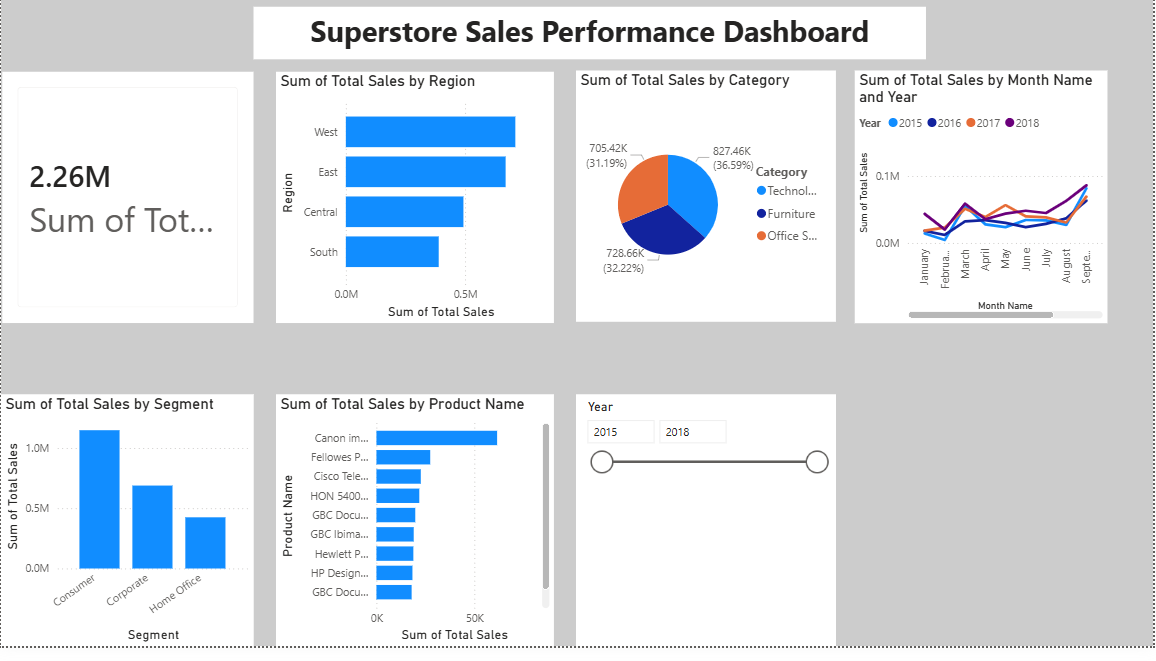

This screenshot's page, from the dashboard's own definition file:
{"tool":"powerbi","page":{"name":"Page 1","canvas":[1280,720],"ordinal":0},"visuals":[{"type":"cardVisual","fields":{"Data":["Sum(superstore_cleaned.Sales)"]},"box":[1.3,82.3,279.3,279.3],"z":0},{"type":"clusteredBarChart","fields":{"Category":["superstore_cleaned.Region"],"Y":["Sum(superstore_cleaned.Total Sales)"]},"box":[306.2,82.3,308.9,279.3],"z":1},{"type":"pieChart","fields":{"Y":["Sum(superstore_cleaned.Total Sales)"],"Category":["superstore_cleaned.Category"]},"box":[639.5,80.9,288.7,279.3],"z":2},{"type":"lineChart","fields":{"Series":["superstore_cleaned.Year"],"Y":["Sum(superstore_cleaned.Total Sales)"],"Category":["superstore_cleaned.Month Name"]},"box":[948.4,80.9,280.6,280.6],"z":3},{"type":"clusteredColumnChart","fields":{"Category":["superstore_cleaned.Segment"],"Y":["Sum(superstore_cleaned.Total Sales)"]},"box":[0,439.8,280.6,280.6],"z":4},{"type":"clusteredBarChart","fields":{"Category":["superstore_cleaned.Product Name"],"Y":["Sum(superstore_cleaned.Total Sales)"]},"box":[306.2,439.8,308.9,280.6],"z":5},{"type":"slicer","fields":{"Values":["superstore_cleaned.Year"]},"box":[639.5,439.8,288.7,280.6],"z":6},{"type":"textbox","box":[280.6,9.4,747.4,58],"z":7}]}

Visuals, with their boxes in screenshot pixels (x1, y1, x2, y2), scaled from the page's 1280x720 canvas onto the 1156x661 screenshot:
cardVisual - Sum(superstore_cleaned.Sales): x1=1, y1=76, x2=253, y2=332
clusteredBarChart - superstore_cleaned.Region x Sum(superstore_cleaned.Total Sales): x1=277, y1=76, x2=556, y2=332
pieChart - Sum(superstore_cleaned.Total Sales) x superstore_cleaned.Category: x1=578, y1=74, x2=838, y2=331
lineChart - superstore_cleaned.Year x Sum(superstore_cleaned.Total Sales): x1=857, y1=74, x2=1110, y2=332
clusteredColumnChart - superstore_cleaned.Segment x Sum(superstore_cleaned.Total Sales): x1=0, y1=404, x2=253, y2=660
clusteredBarChart - superstore_cleaned.Product Name x Sum(superstore_cleaned.Total Sales): x1=277, y1=404, x2=556, y2=660
slicer - superstore_cleaned.Year: x1=578, y1=404, x2=838, y2=660
textbox: x1=253, y1=9, x2=928, y2=62
